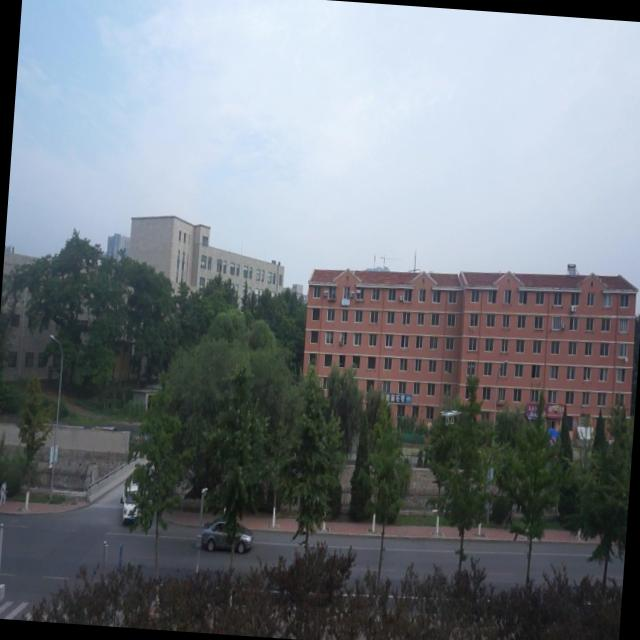drone: (437, 402, 461, 428)
